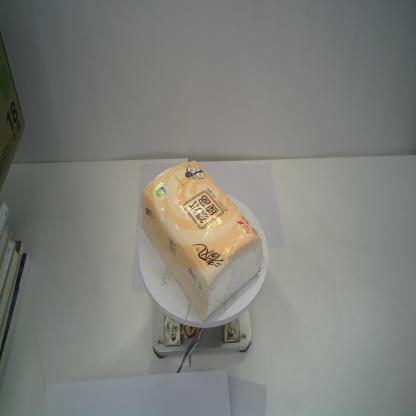Tissue: (140, 158, 265, 325)
